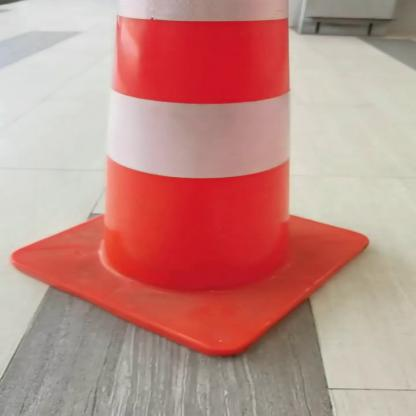cone: (0, 0, 374, 364)
